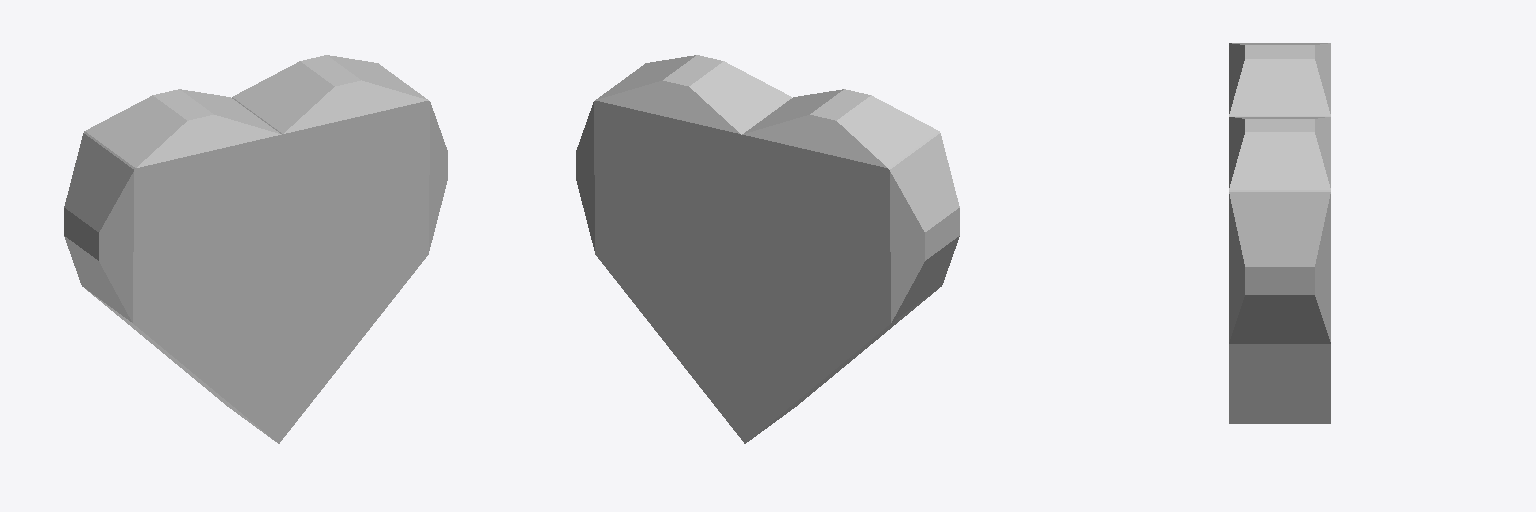
The model's file is heart.obj.
3 views of the same model, side by side, from view 1: azimuth 30°, elevation 25°; view 2: azimuth 150°, elevation 25°; view 3: azimuth 270°, elevation 25° (orthographic).
Visible parts, largest first — view 1: Cube_Cube.001; view 2: Cube_Cube.001; view 3: Cube_Cube.001.
Boxes of the visible parts, x1=… form: Cube_Cube.001: x1=64, y1=55, x2=447, y2=443; Cube_Cube.001: x1=576, y1=55, x2=959, y2=443; Cube_Cube.001: x1=1229, y1=43, x2=1330, y2=423.
Bounding box in the file's own units: 1.78 × 1.65 × 0.451.